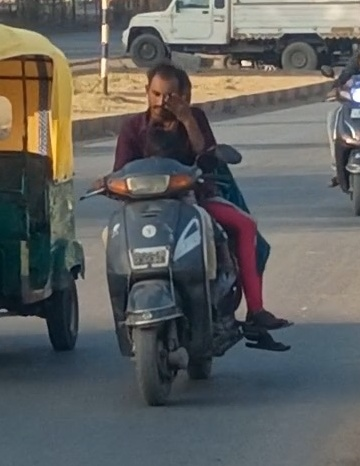BikeWithRider: (76, 59, 302, 411)
NoHelmet: (143, 63, 188, 124), (168, 67, 209, 126), (139, 126, 184, 167)
